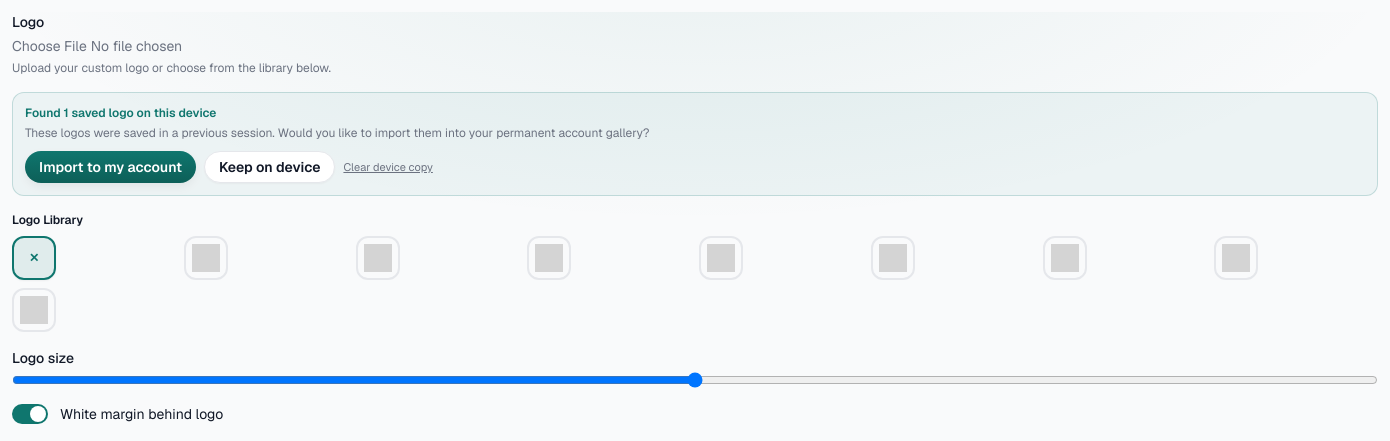
Test: DesignLogoControls › detects and presents recovery banner when unpartitioned legacy logos exist for logged-in user
Expected: the text "Found 1 saved logo on this device" is shown, [25,105,216,121]
Expected: the button "Import to my account" is shown, [25,151,196,183]
# Clicking "Keep on device" dismisses banner without deleting local copy
Click the button "Keep on device".
click(270, 167)  # box [204,151,335,183]
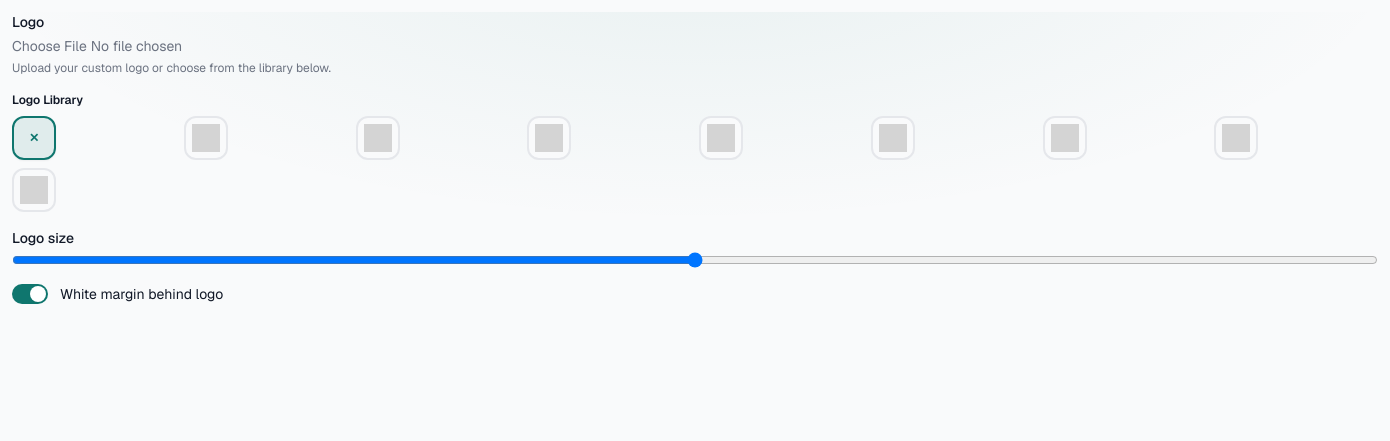
Expected: the text "Found 1 saved logo on this device" is gone
